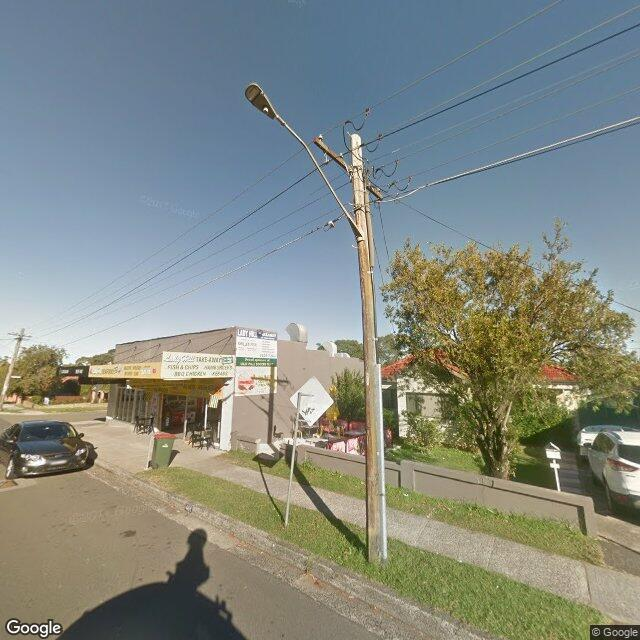crossarm: (314, 135, 386, 203), (8, 332, 33, 338)
streetlight: (244, 80, 366, 240)
timber-pole: (349, 132, 387, 559), (0, 327, 29, 410)
